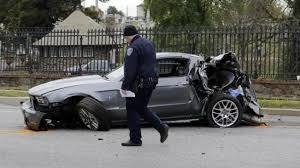front-bumper-dent: (16, 96, 43, 124)
